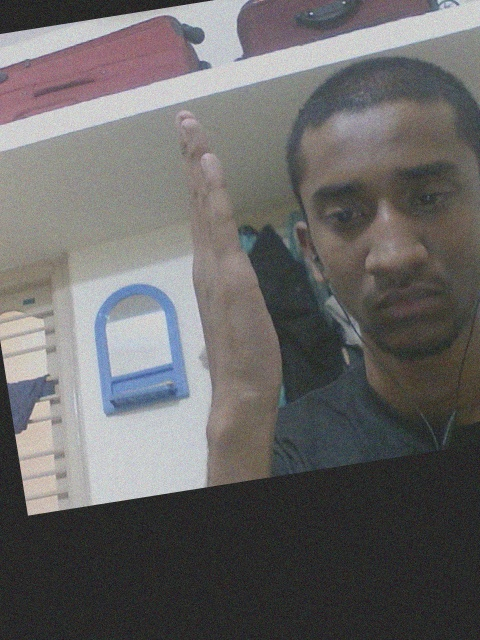hand: (173, 107, 288, 405)
